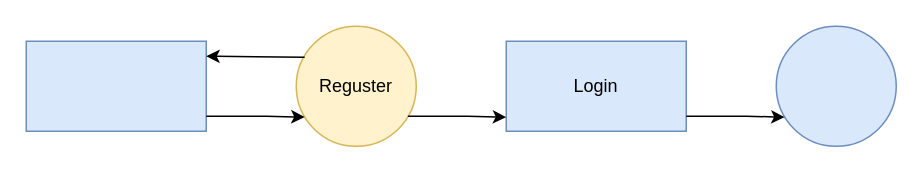
The diagram is 923 pixels wide and 173 high, and some of its shapes have lost their labels. Here are the shapes that lost their labels. From the top down, the centre of each, then its label:
[115,85]: Users
[835,85]: Dashbard
